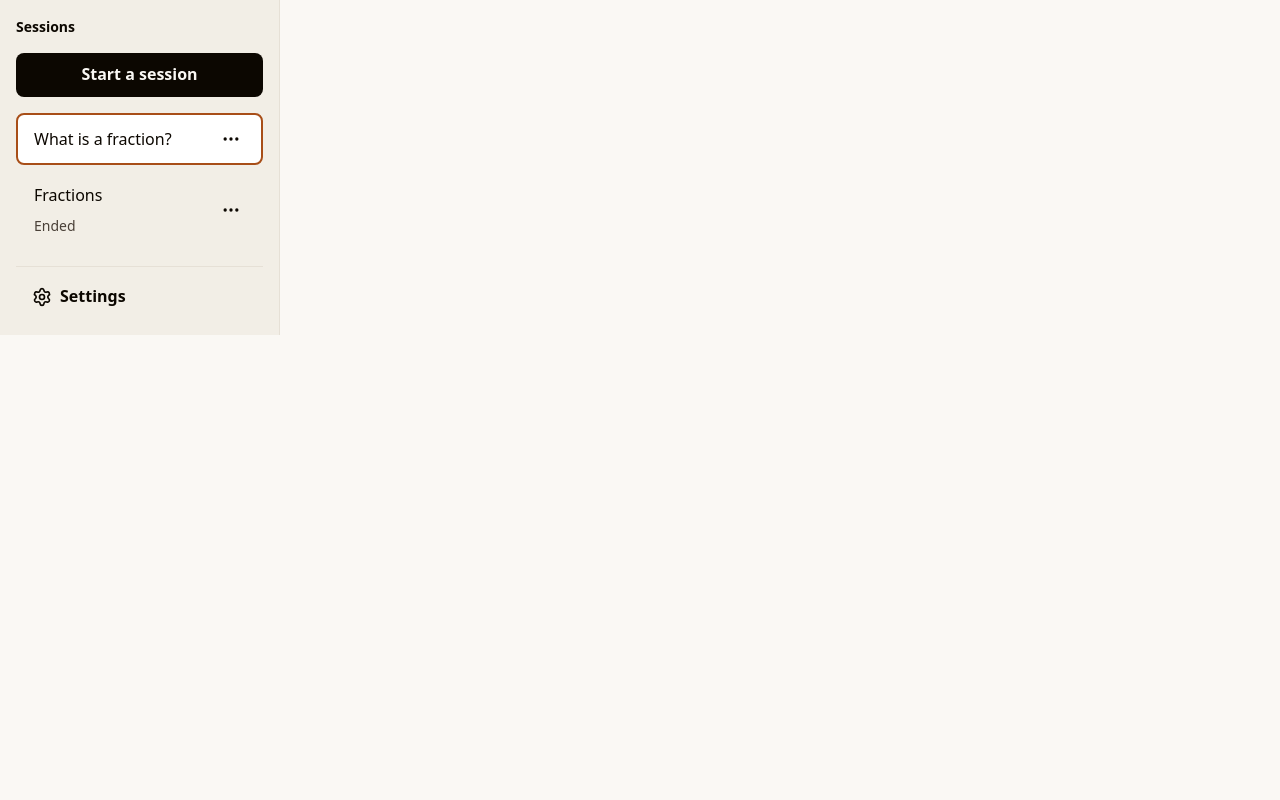
Scenario: delete asks first, names the session, and says the profile keeps its facts
Click the button named "Actions for Fractions". click: (231, 210)
box: [209,188,253,232]
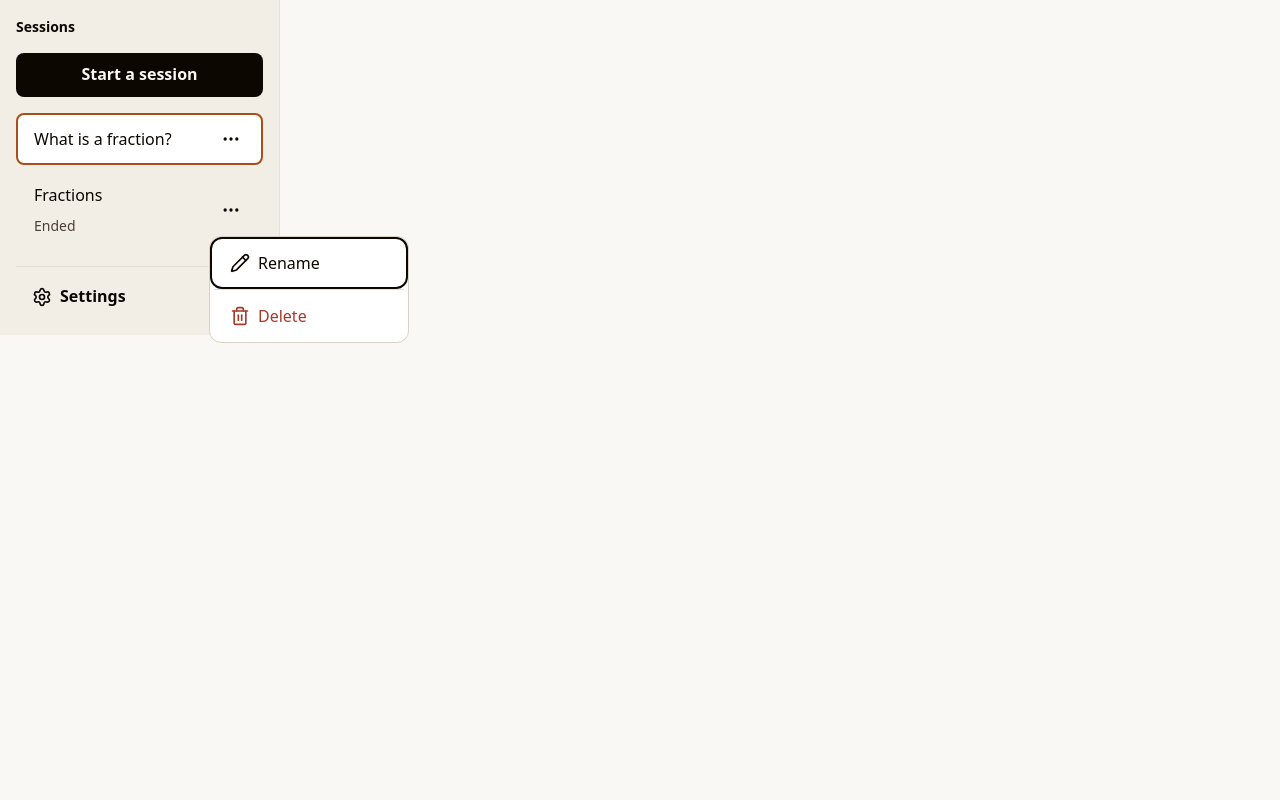
Click the menu item "Delete". click: (309, 316)
box: [214,294,404,338]
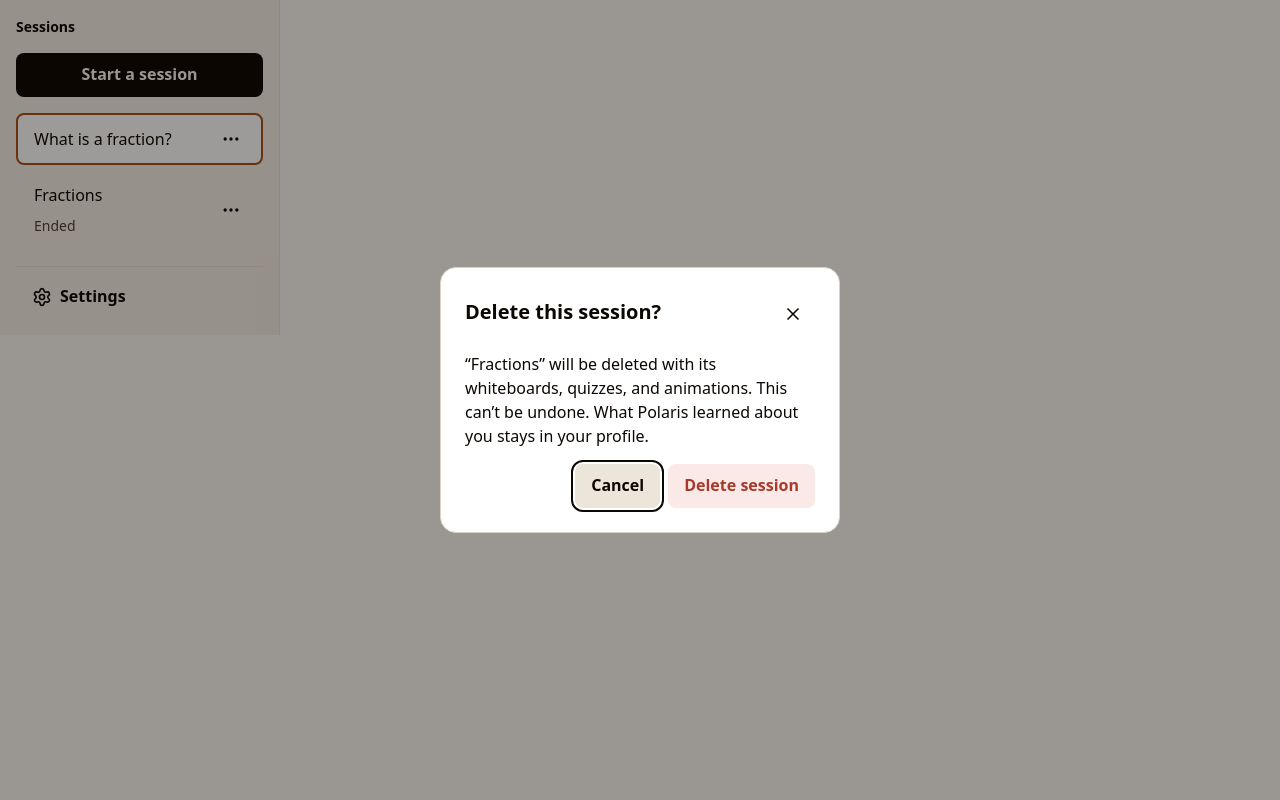
Now the dialog "Delete this session?" shows "Fractions", box [471,353,539,375]
Now the dialog "Delete this session?" shows "can’t be undone", box [465,353,798,447]
Now the dialog "Delete this session?" shows "stays in your profile", box [465,353,798,447]
